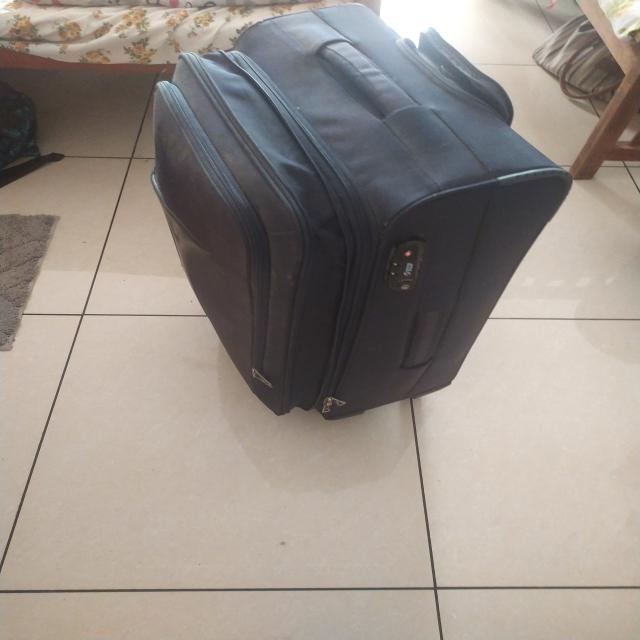suitcaserotation: (145, 0, 574, 422)
